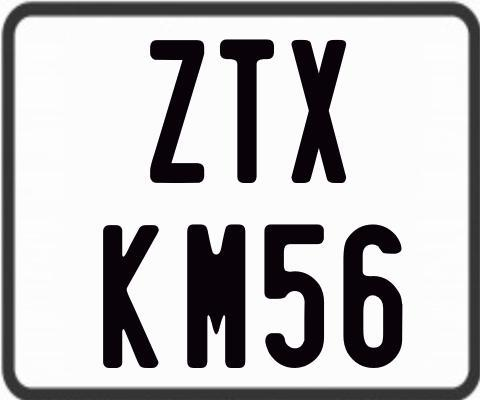5: (264, 222, 329, 367)
6: (342, 221, 403, 367)
K: (101, 222, 163, 368)
M: (184, 222, 244, 370)
T: (218, 38, 274, 184)
X: (289, 38, 347, 183)
Z: (148, 40, 206, 188)
